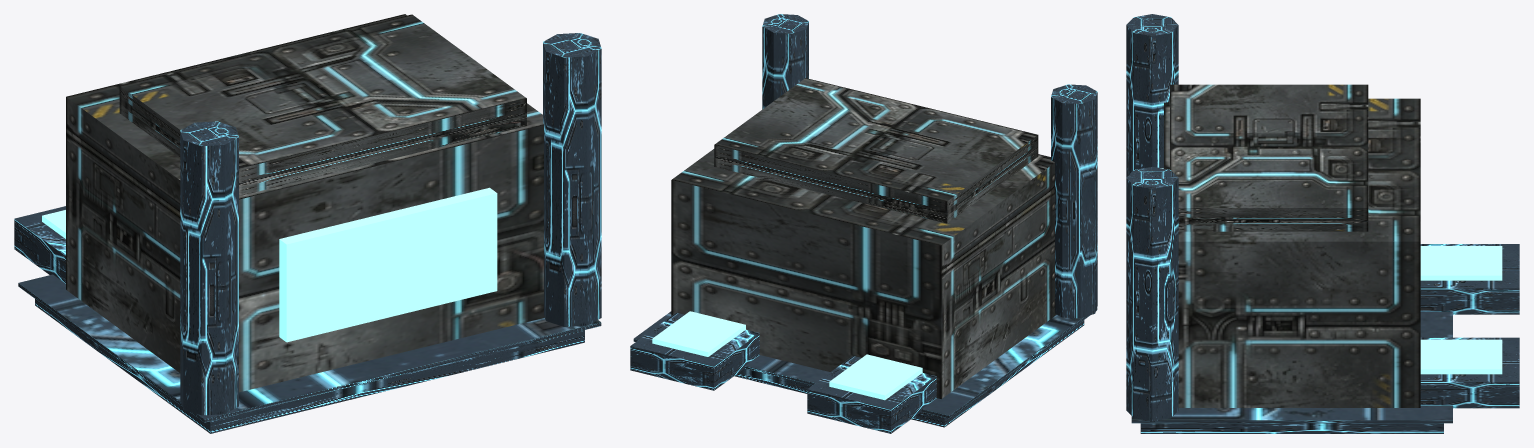
The model's file is eco-010.glb.
3 views of the same model, side by side, from view 1: azimuth 30°, elevation 25°; view 2: azimuth 150°, elevation 25°; view 3: azimuth 270°, elevation 25° (orthographic). The views are drawn at different scales.
Visible parts, largest first — view 1: ECO010_FighterHangar; view 2: ECO010_FighterHangar; view 3: ECO010_FighterHangar.
Part boxes in pixels (x1,y1,x2,y2): ECO010_FighterHangar: [14, 14, 601, 433]; ECO010_FighterHangar: [630, 14, 1097, 433]; ECO010_FighterHangar: [1126, 14, 1519, 433].
Bounding box in the file's own units: 7.1 × 4.8 × 6.75.
3 materials, 2 textured.
